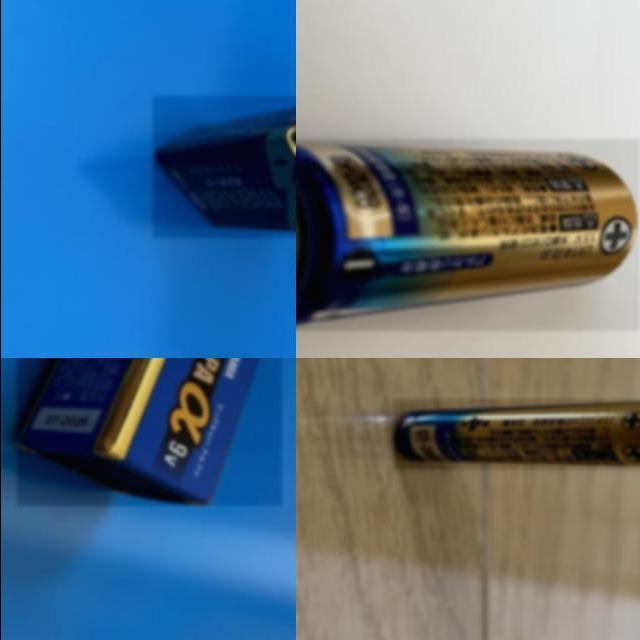9V: (16, 358, 281, 506), (153, 96, 295, 237)
